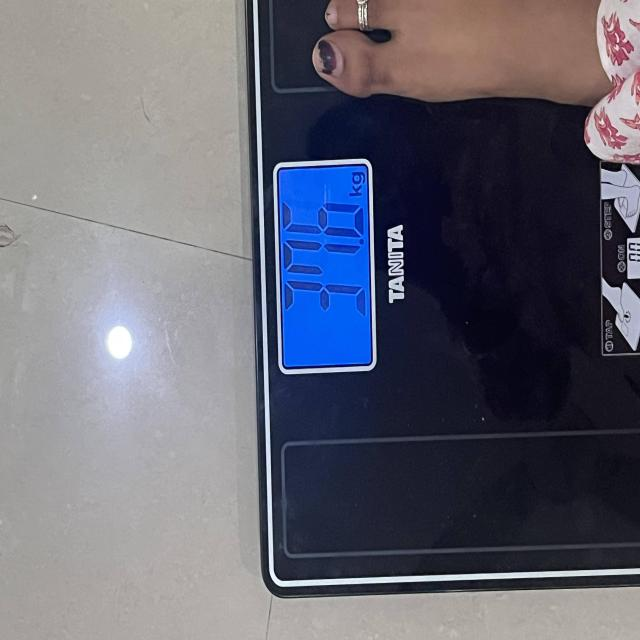ws: (272, 159, 378, 377)
